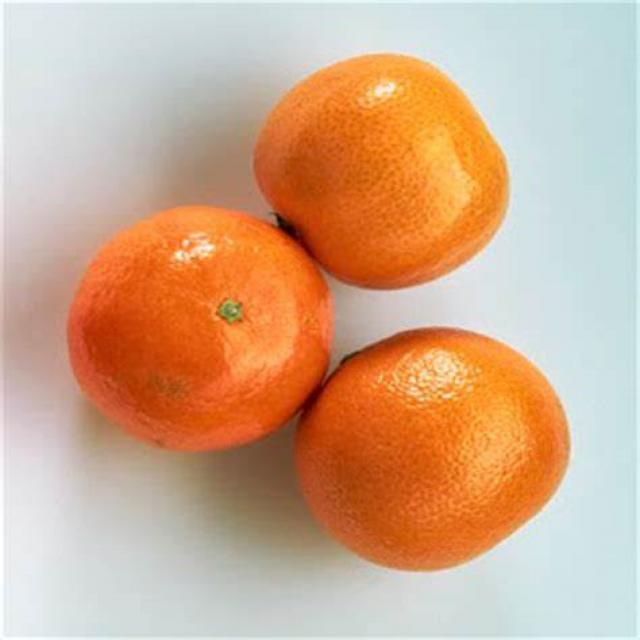Orange: (65, 206, 337, 457), (301, 324, 574, 568), (254, 54, 515, 288)
